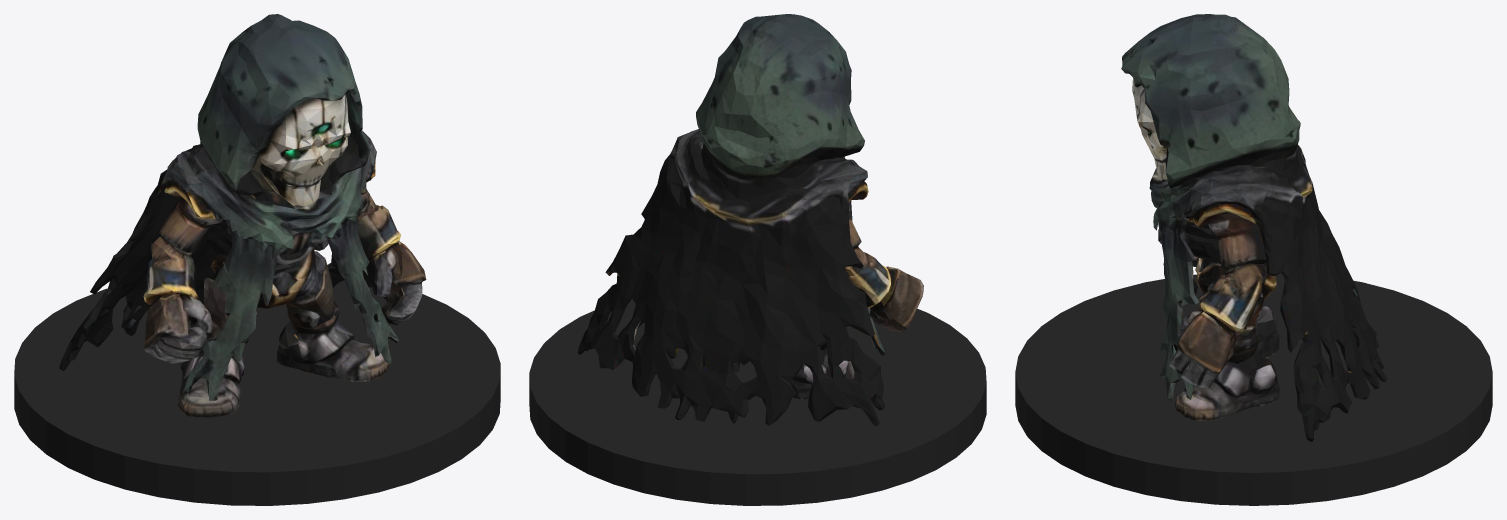
Rendered from ht-psychomancer.glb.
3 renders of one model, left to right at view 1: azimuth 30°, elevation 25°; view 2: azimuth 150°, elevation 25°; view 3: azimuth 270°, elevation 25°, orthographic. The views are drawn at different scales.
Parts seen in each view (by area): view 1: figure, base; view 2: figure, base; view 3: figure, base.
Boxes of the visible parts, x1,y1,x2,y2 form: figure: (59, 14, 426, 417); base: (14, 280, 500, 505); figure: (577, 14, 923, 425); base: (529, 298, 986, 505); figure: (1121, 14, 1386, 441); base: (1015, 273, 1492, 505).
Size of the model in its own units: 1.57 by 1.42 by 1.57.
2 materials, 1 textured.
